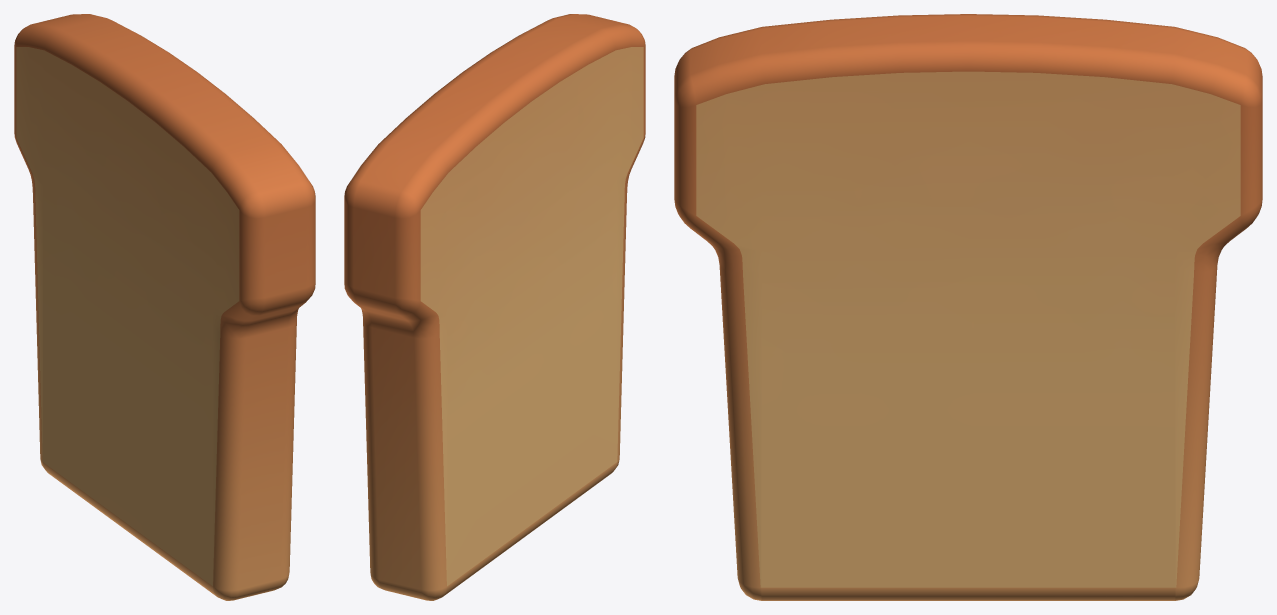
Rendered from bread_slice.fbx.
3 views of the same model, side by side, from view 1: azimuth 30°, elevation 25°; view 2: azimuth 150°, elevation 25°; view 3: azimuth 270°, elevation 25° (orthographic). The views are drawn at different scales.
Visible parts, largest first — view 1: bread_slice; view 2: bread_slice; view 3: bread_slice.
Boxes of the visible parts, x1=… form: bread_slice: x1=14, y1=14, x2=315, y2=600; bread_slice: x1=344, y1=14, x2=645, y2=600; bread_slice: x1=674, y1=14, x2=1262, y2=600.
Bounding box in the file's own units: 3.18 × 18.69 × 17.86.
